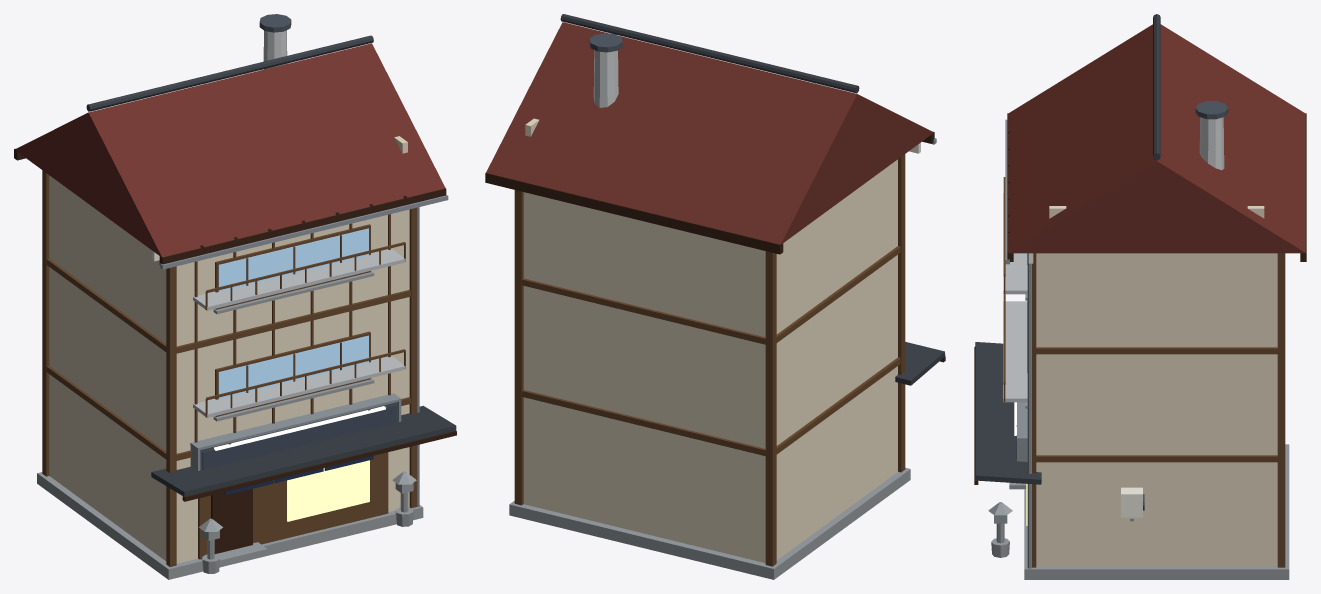
Rendered from shop_sento_3f.glb.
3 renders of one model, left to right at view 1: azimuth 30°, elevation 25°; view 2: azimuth 150°, elevation 25°; view 3: azimuth 270°, elevation 25°, orthographic. The views are drawn at different scales.
Parts seen in each view (by area): view 1: body.041, roof.018, eave.018, panel.006, base.042, win_glass.055, win_glass.054, panel_glass.006, sign_face.035, balcony_slab.045, balcony_slab.044, post.164 (+21 smaller); view 2: body.041, roof.018, base.042, post.165, eave_back.018, beam.089, beam.092, post.167, ridge.018, post.164, chimney.002, eave.018; view 3: body.041, roof.018, eave.018, base.042, post.167, balcony_slab.044, beam.089, beam.092, post.166, downpipe.017, ridge.018, chimney.002 (+4 smaller).
Part boxes in pixels (bbox=[...]): body.041: bbox=[49, 175, 409, 563]; roof.018: bbox=[14, 43, 445, 257]; eave.018: bbox=[151, 405, 456, 496]; panel.006: bbox=[198, 452, 388, 559]; base.042: bbox=[37, 472, 423, 579]; win_glass.055: bbox=[218, 228, 368, 291]; win_glass.054: bbox=[218, 335, 368, 399]; panel_glass.006: bbox=[287, 460, 369, 521]; sign_face.035: bbox=[202, 405, 396, 469]; balcony_slab.045: bbox=[193, 248, 405, 310]; balcony_slab.044: bbox=[193, 355, 405, 417]; post.164: bbox=[166, 266, 176, 566]; body.041: bbox=[523, 159, 897, 562]; roof.018: bbox=[486, 22, 933, 244]; base.042: bbox=[509, 467, 910, 579]; post.165: bbox=[765, 251, 776, 566]; eave_back.018: bbox=[485, 173, 783, 254]; beam.089: bbox=[522, 357, 900, 456]; beam.092: bbox=[522, 246, 900, 344]; post.167: bbox=[514, 190, 523, 505]; ridge.018: bbox=[560, 14, 859, 93]; post.164: bbox=[898, 154, 905, 472]; chimney.002: bbox=[593, 50, 618, 107]; eave.018: bbox=[895, 342, 945, 385]; body.041: bbox=[1036, 253, 1277, 566]; roof.018: bbox=[1008, 24, 1305, 253]; eave.018: bbox=[975, 342, 1041, 484]; base.042: bbox=[1024, 444, 1289, 579]; post.167: bbox=[1277, 253, 1285, 567]; balcony_slab.044: bbox=[1003, 301, 1027, 402]; beam.089: bbox=[1036, 455, 1277, 462]; beam.092: bbox=[1036, 347, 1277, 354]; post.166: bbox=[1032, 253, 1036, 567]; downpipe.017: bbox=[1027, 253, 1031, 568]; ridge.018: bbox=[1153, 14, 1160, 160]; chimney.002: bbox=[1199, 117, 1224, 170].
Bounding box in the file's own units: 8.5 × 12.58 × 8.5.
